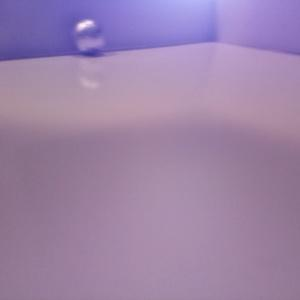alive_ball: (69, 18, 105, 55)
